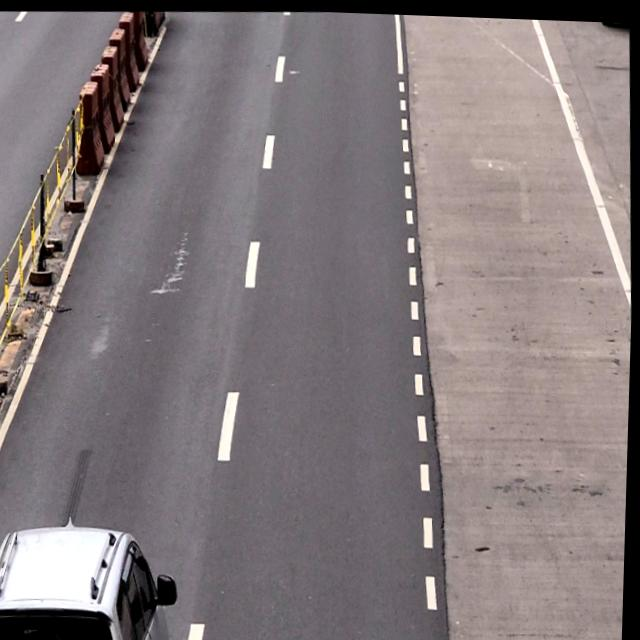Car: (0, 517, 178, 640)
